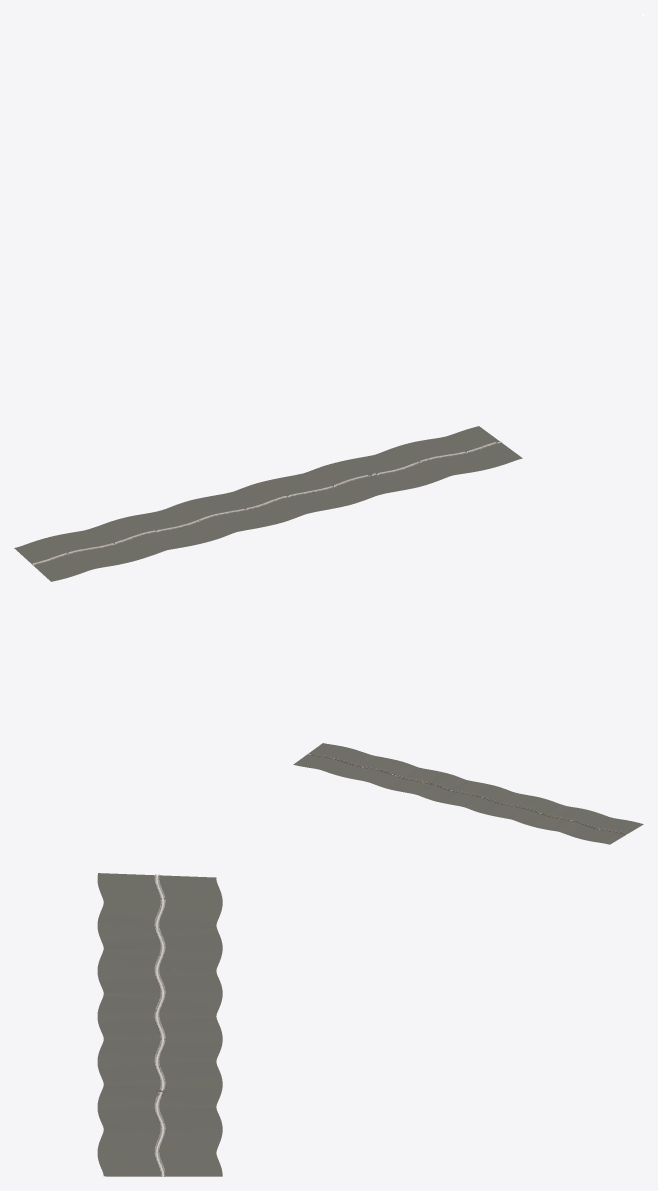
The model's file is nottinghill.glb.
3 renders of one model, top to bottom at view 1: azimuth 30°, elevation 25°; view 2: azimuth 150°, elevation 25°; view 3: azimuth 270°, elevation 25°, orthographic. The views are drawn at different scales.
Visible parts, largest first — view 1: Land_002, Land_005, Land_001, Land_004, Land_003, Land_000, Land_006; view 2: Land_001, Land_003, Land_002, Land_004, Land_000, Land_005, Land_006; view 3: Land_000, Land_005, Land_003, Land_004, Land_002, Land_001, Land_006.
Part boxes in pixels (x1,y1,x2,y2): Land_002: (158, 492, 271, 544); Land_005: (375, 436, 491, 486); Land_001: (86, 511, 197, 563); Land_004: (302, 455, 418, 505); Land_003: (230, 473, 344, 524); Land_000: (14, 530, 124, 581); Land_006: (446, 426, 522, 467); Land_001: (513, 799, 593, 832); Land_003: (416, 773, 494, 806); Land_002: (464, 786, 544, 819); Land_004: (367, 760, 445, 794); Land_000: (561, 812, 643, 844); Land_005: (318, 747, 395, 781); Land_006: (293, 743, 345, 769); Land_000: (97, 873, 222, 924); Land_005: (97, 1106, 222, 1154); Land_003: (97, 1013, 222, 1061); Land_004: (97, 1060, 222, 1107); Land_002: (97, 967, 222, 1015); Land_001: (97, 920, 222, 969); Land_006: (97, 1153, 222, 1176).
Bounding box in the file's own units: 9995 × 3208 × 3892.
